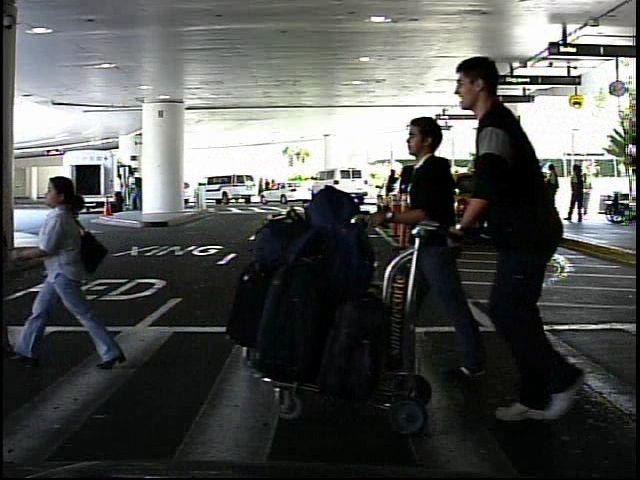person: (459, 47, 580, 424), (372, 112, 491, 389), (12, 157, 123, 382), (582, 170, 601, 218), (114, 173, 125, 213)
